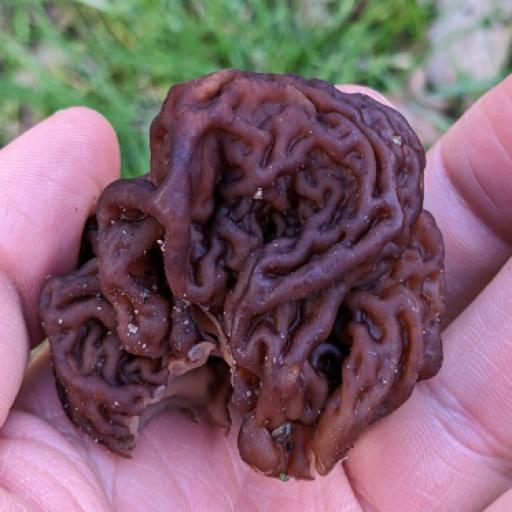mushroom: (33, 50, 463, 491)
